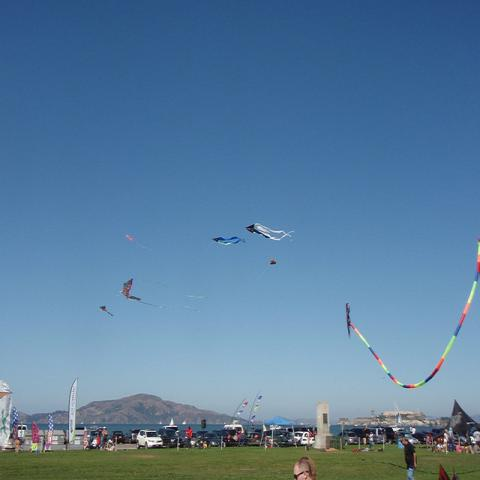car: (202, 429, 359, 449), (296, 432, 418, 447), (414, 427, 446, 445), (374, 424, 400, 446), (137, 428, 163, 449), (158, 428, 184, 448), (273, 430, 295, 448), (178, 430, 200, 448), (221, 430, 238, 447), (108, 430, 126, 445), (372, 428, 386, 443), (247, 432, 261, 446), (196, 430, 209, 444), (128, 430, 140, 442)
